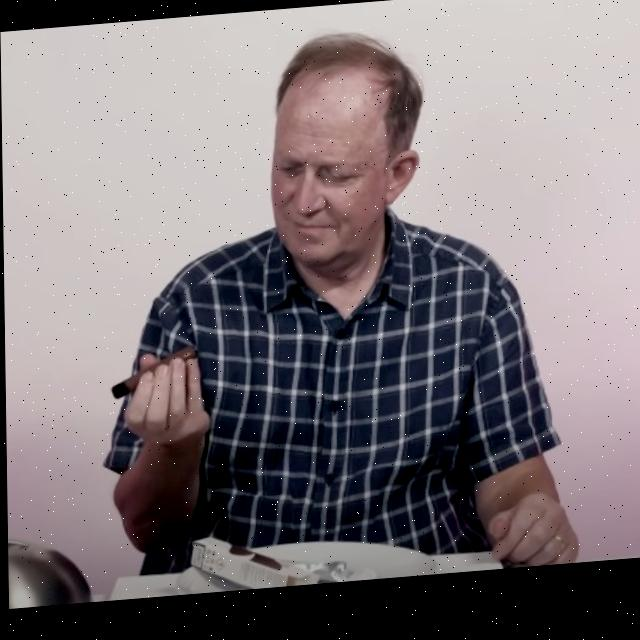vape: (109, 347, 198, 402)
